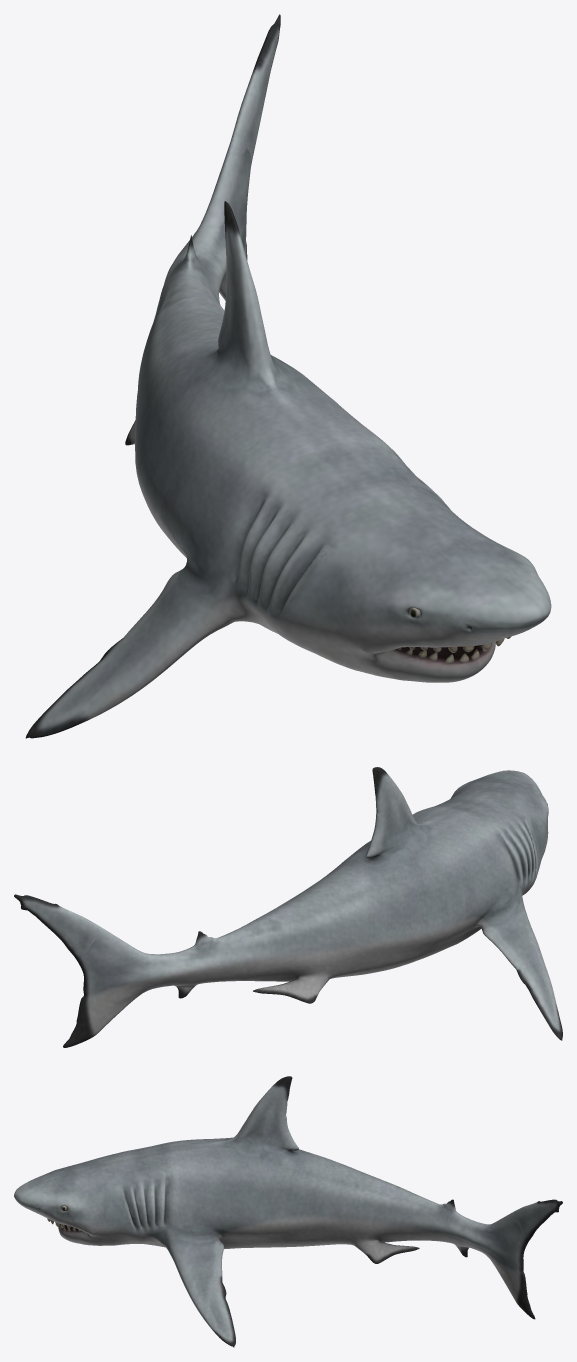
Rendered from MZ4250 - Reef Shark.glb.
3 renders of one model, top to bottom at view 1: azimuth 30°, elevation 25°; view 2: azimuth 150°, elevation 25°; view 3: azimuth 270°, elevation 25°, orthographic. The views are drawn at different scales.
Visible parts, largest first — view 1: Great White 2.001; view 2: Great White 2.001; view 3: Great White 2.001.
Boxes of the visible parts, x1,y1,x2,y2 form: Great White 2.001: [25, 14, 551, 738]; Great White 2.001: [14, 767, 562, 1047]; Great White 2.001: [14, 1076, 562, 1347].
Bounding box in the file's own units: 0.7179 × 0.5087 × 1.17.
Materials: 1 (1 with a texture image).
